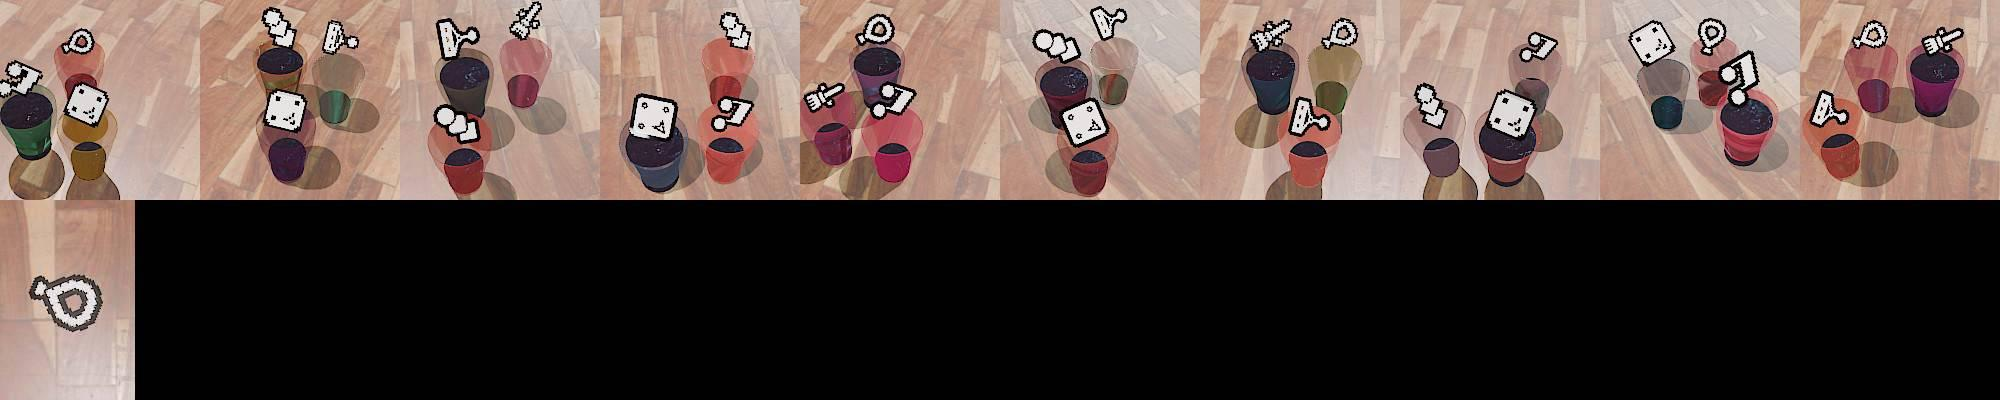icon: (31, 269, 105, 335), (1486, 87, 1540, 139), (628, 92, 680, 143), (1060, 97, 1111, 148), (1718, 48, 1760, 104), (64, 80, 111, 127), (1628, 19, 1675, 66), (432, 102, 482, 144), (263, 88, 309, 131), (435, 18, 481, 61), (1032, 27, 1083, 64), (1290, 94, 1332, 136), (0, 60, 45, 98), (1810, 88, 1851, 127), (712, 94, 755, 131), (871, 83, 917, 117), (1413, 82, 1448, 127), (261, 6, 297, 50), (1250, 18, 1293, 54), (856, 13, 897, 48), (1089, 5, 1128, 42), (320, 19, 360, 55), (718, 10, 753, 51), (1518, 29, 1560, 62), (804, 80, 847, 112), (509, 0, 542, 41), (1922, 25, 1964, 56), (1320, 17, 1358, 50), (1852, 19, 1890, 51), (1696, 18, 1727, 57), (61, 28, 96, 56), (28, 275, 52, 302)
